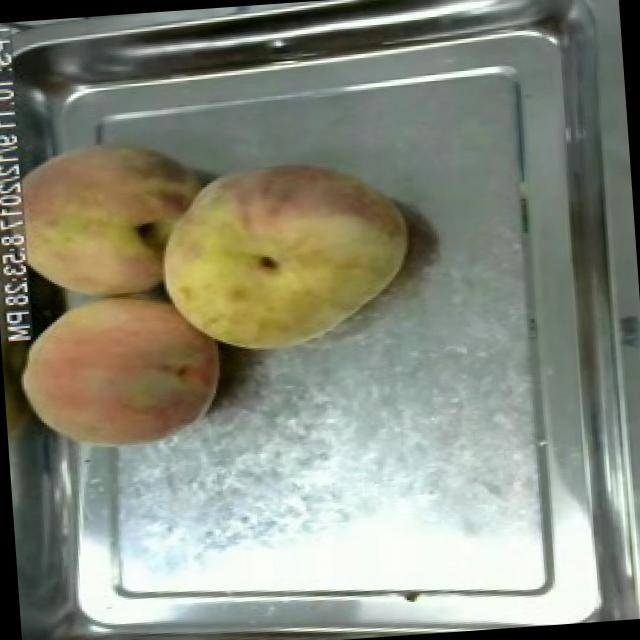Fruit: (143, 144, 424, 364), (7, 274, 235, 463), (0, 125, 217, 313)
